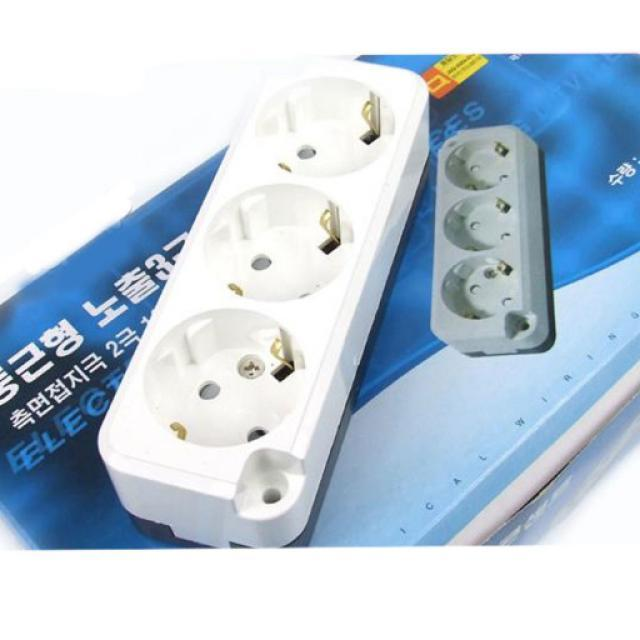typeb: (123, 66, 430, 572)
